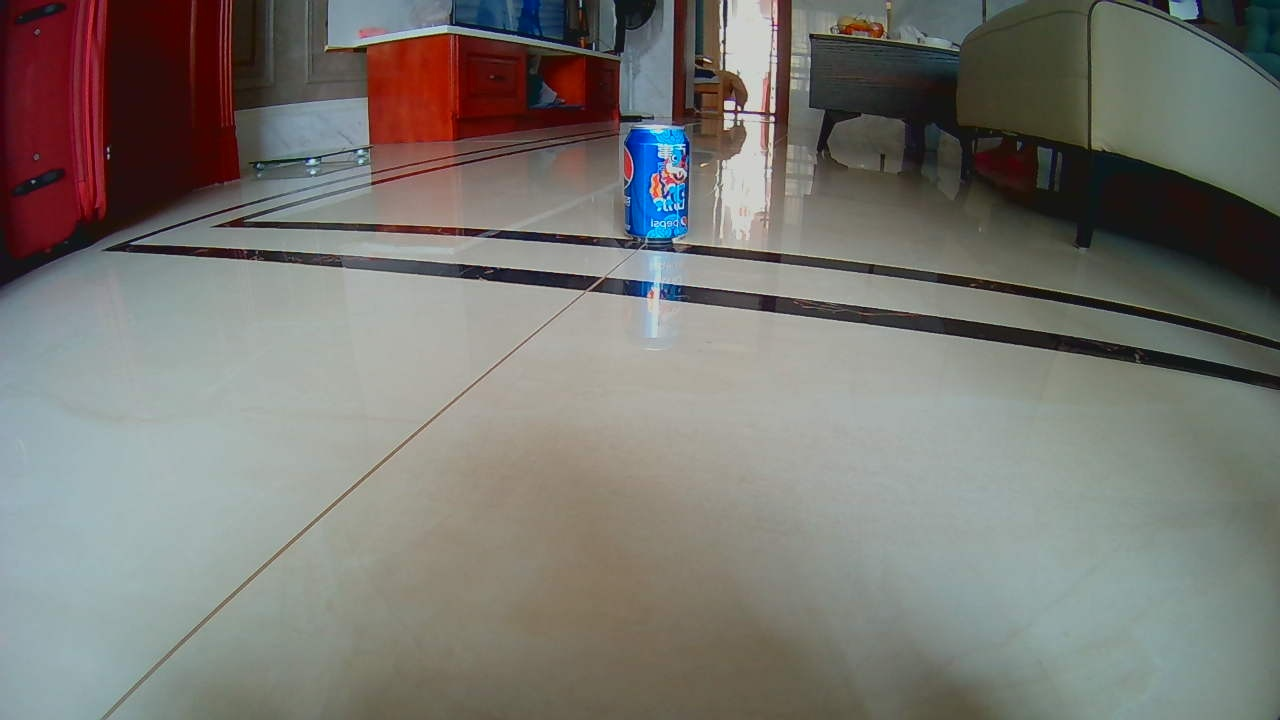pessi: (628, 121, 686, 242)
